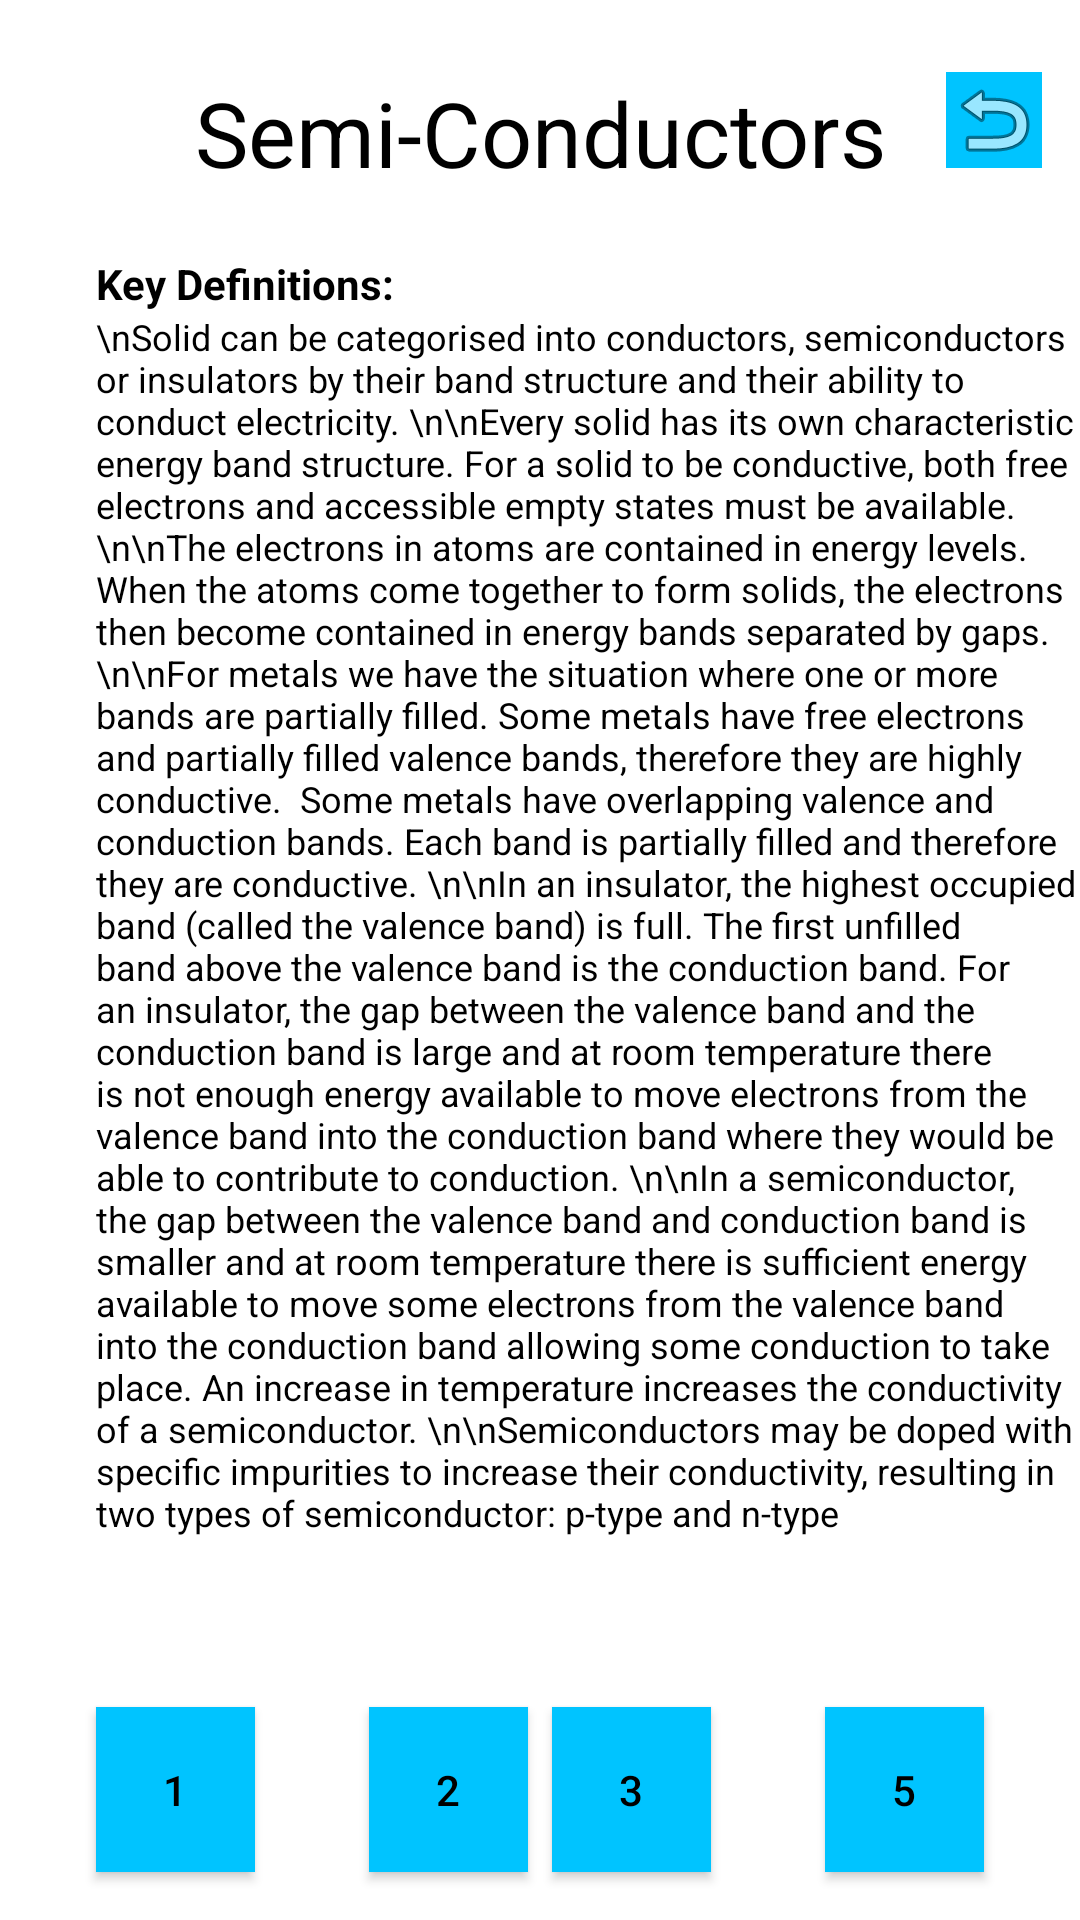

Point at icon controls on the screen. Image size 1080*1920, points as (x,y).
revert: (994,120)
